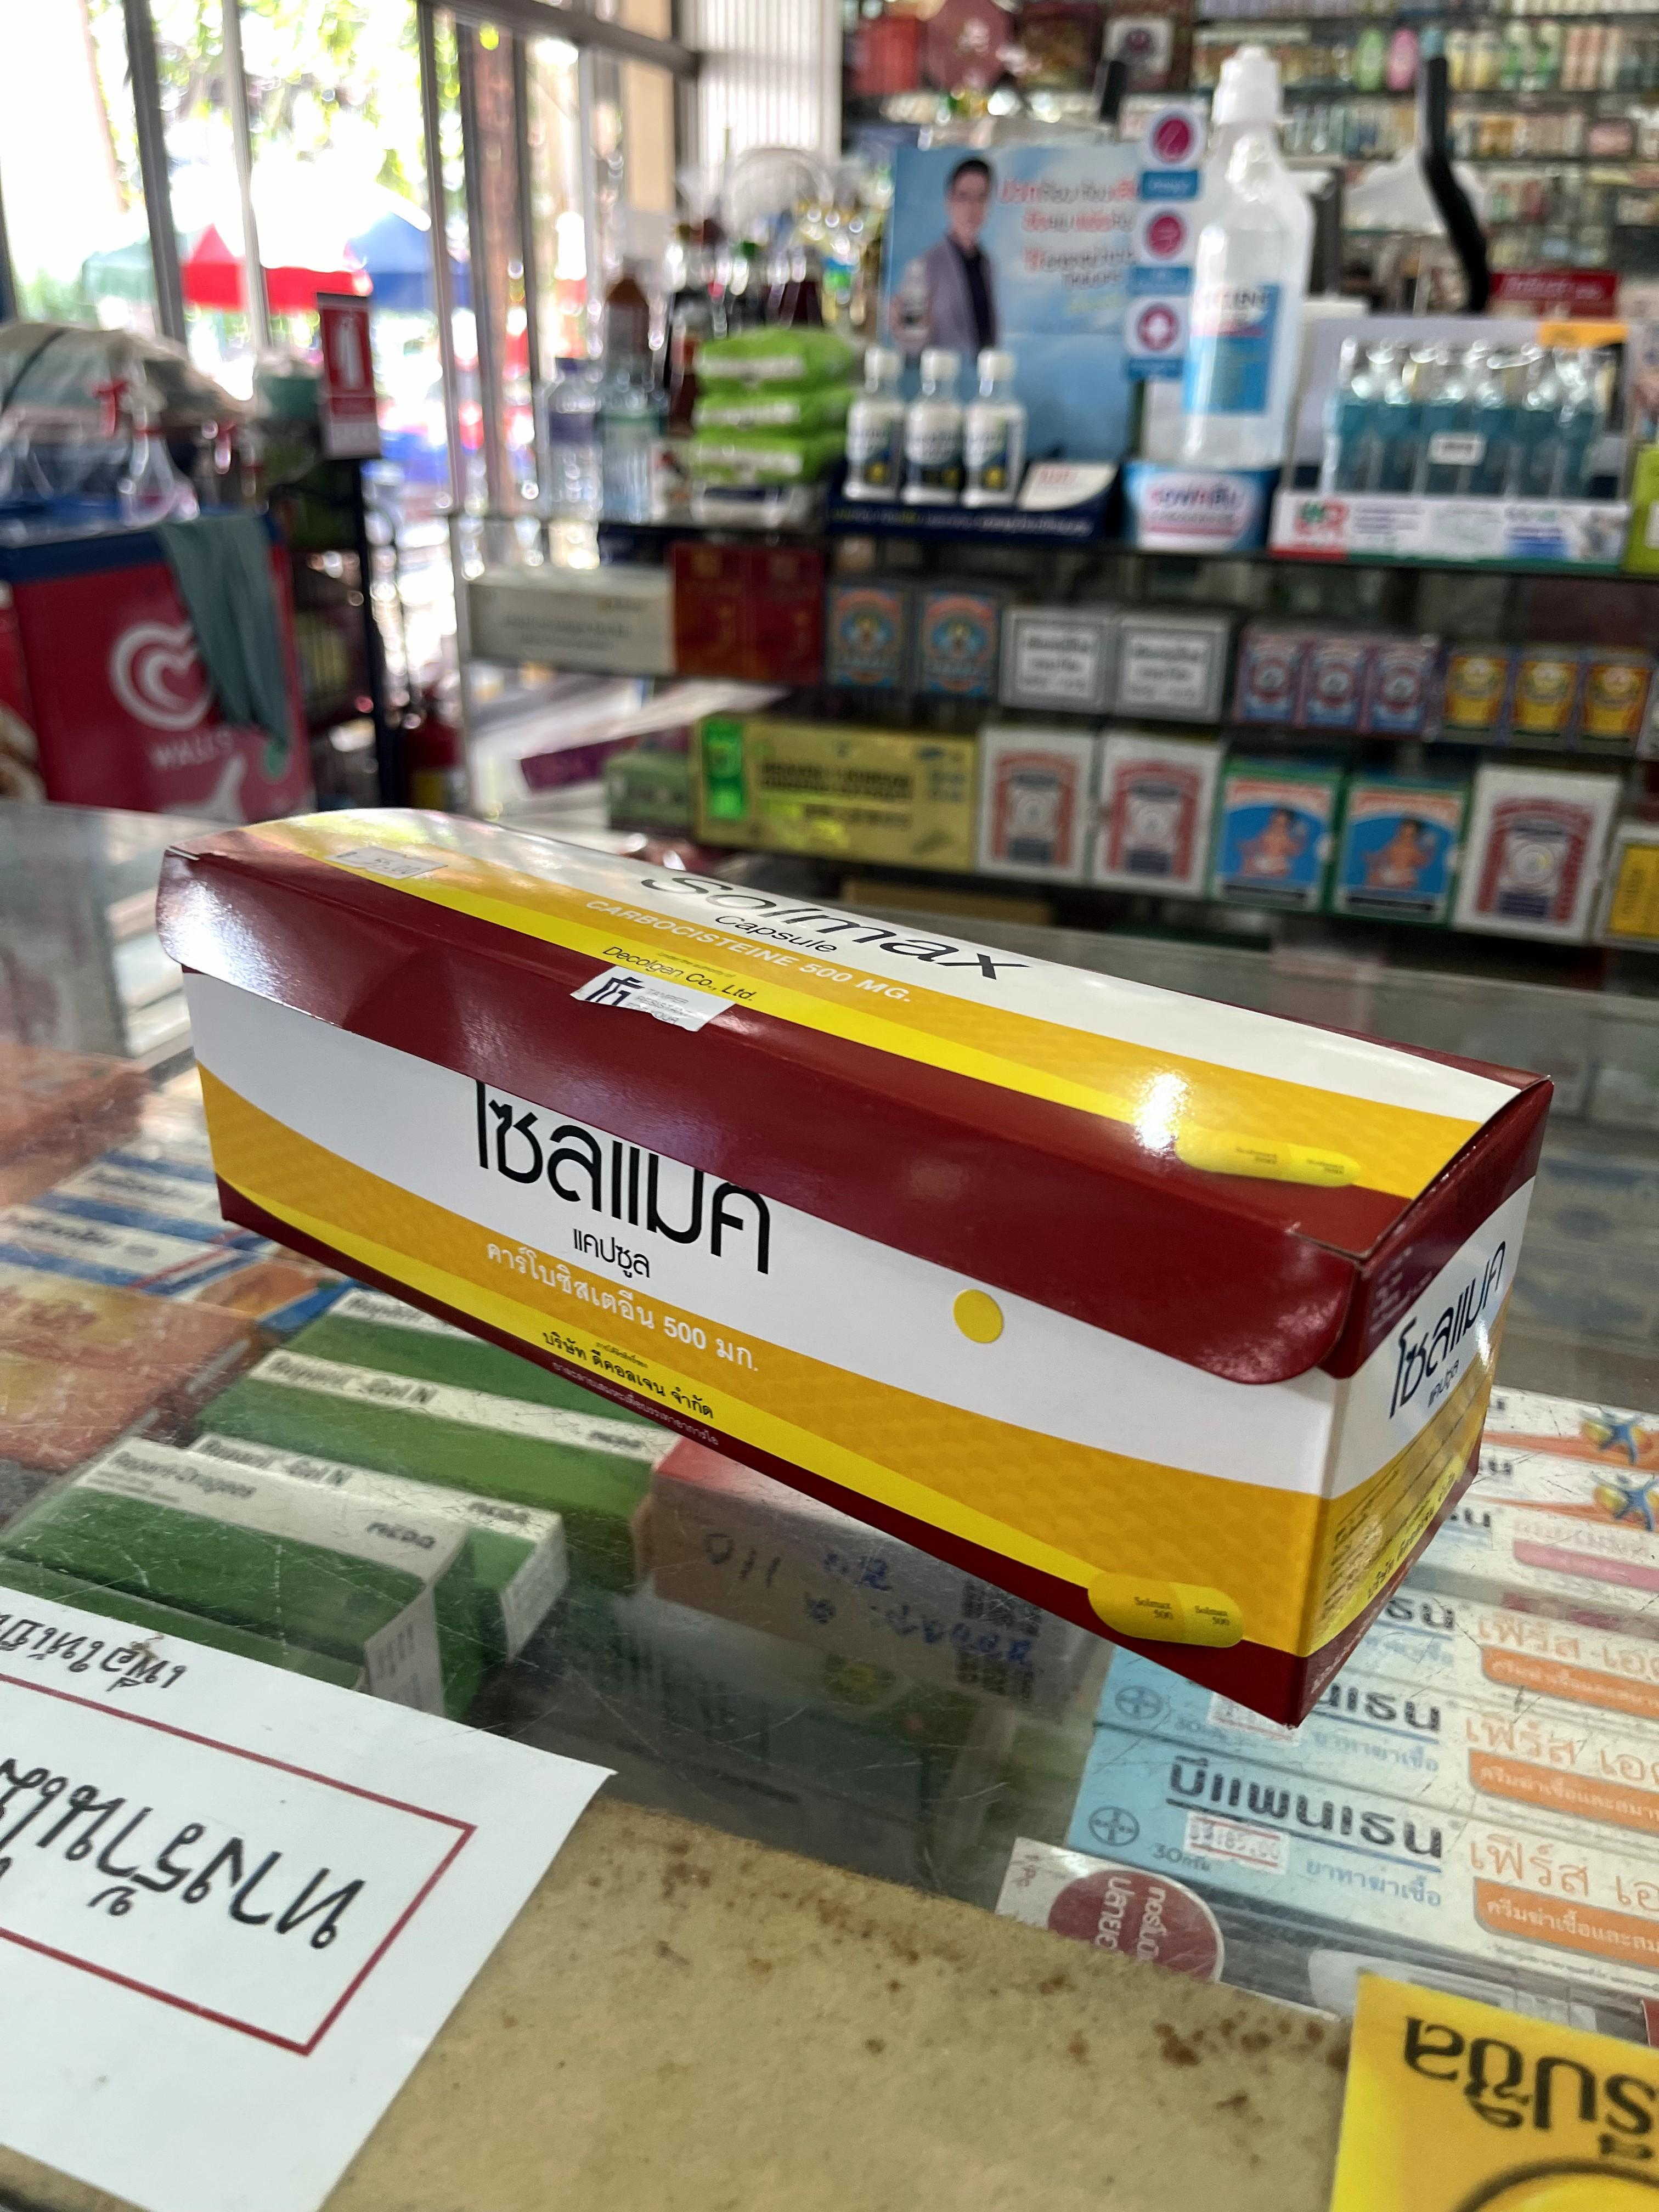Solmax-Capsule: (152, 803, 1556, 1731)
